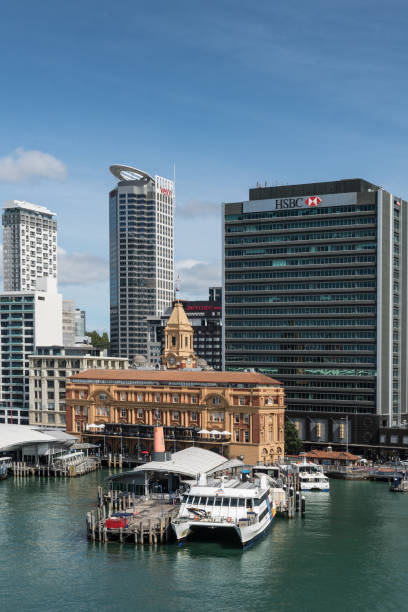ferry: (170, 473, 277, 553), (287, 457, 329, 492)
